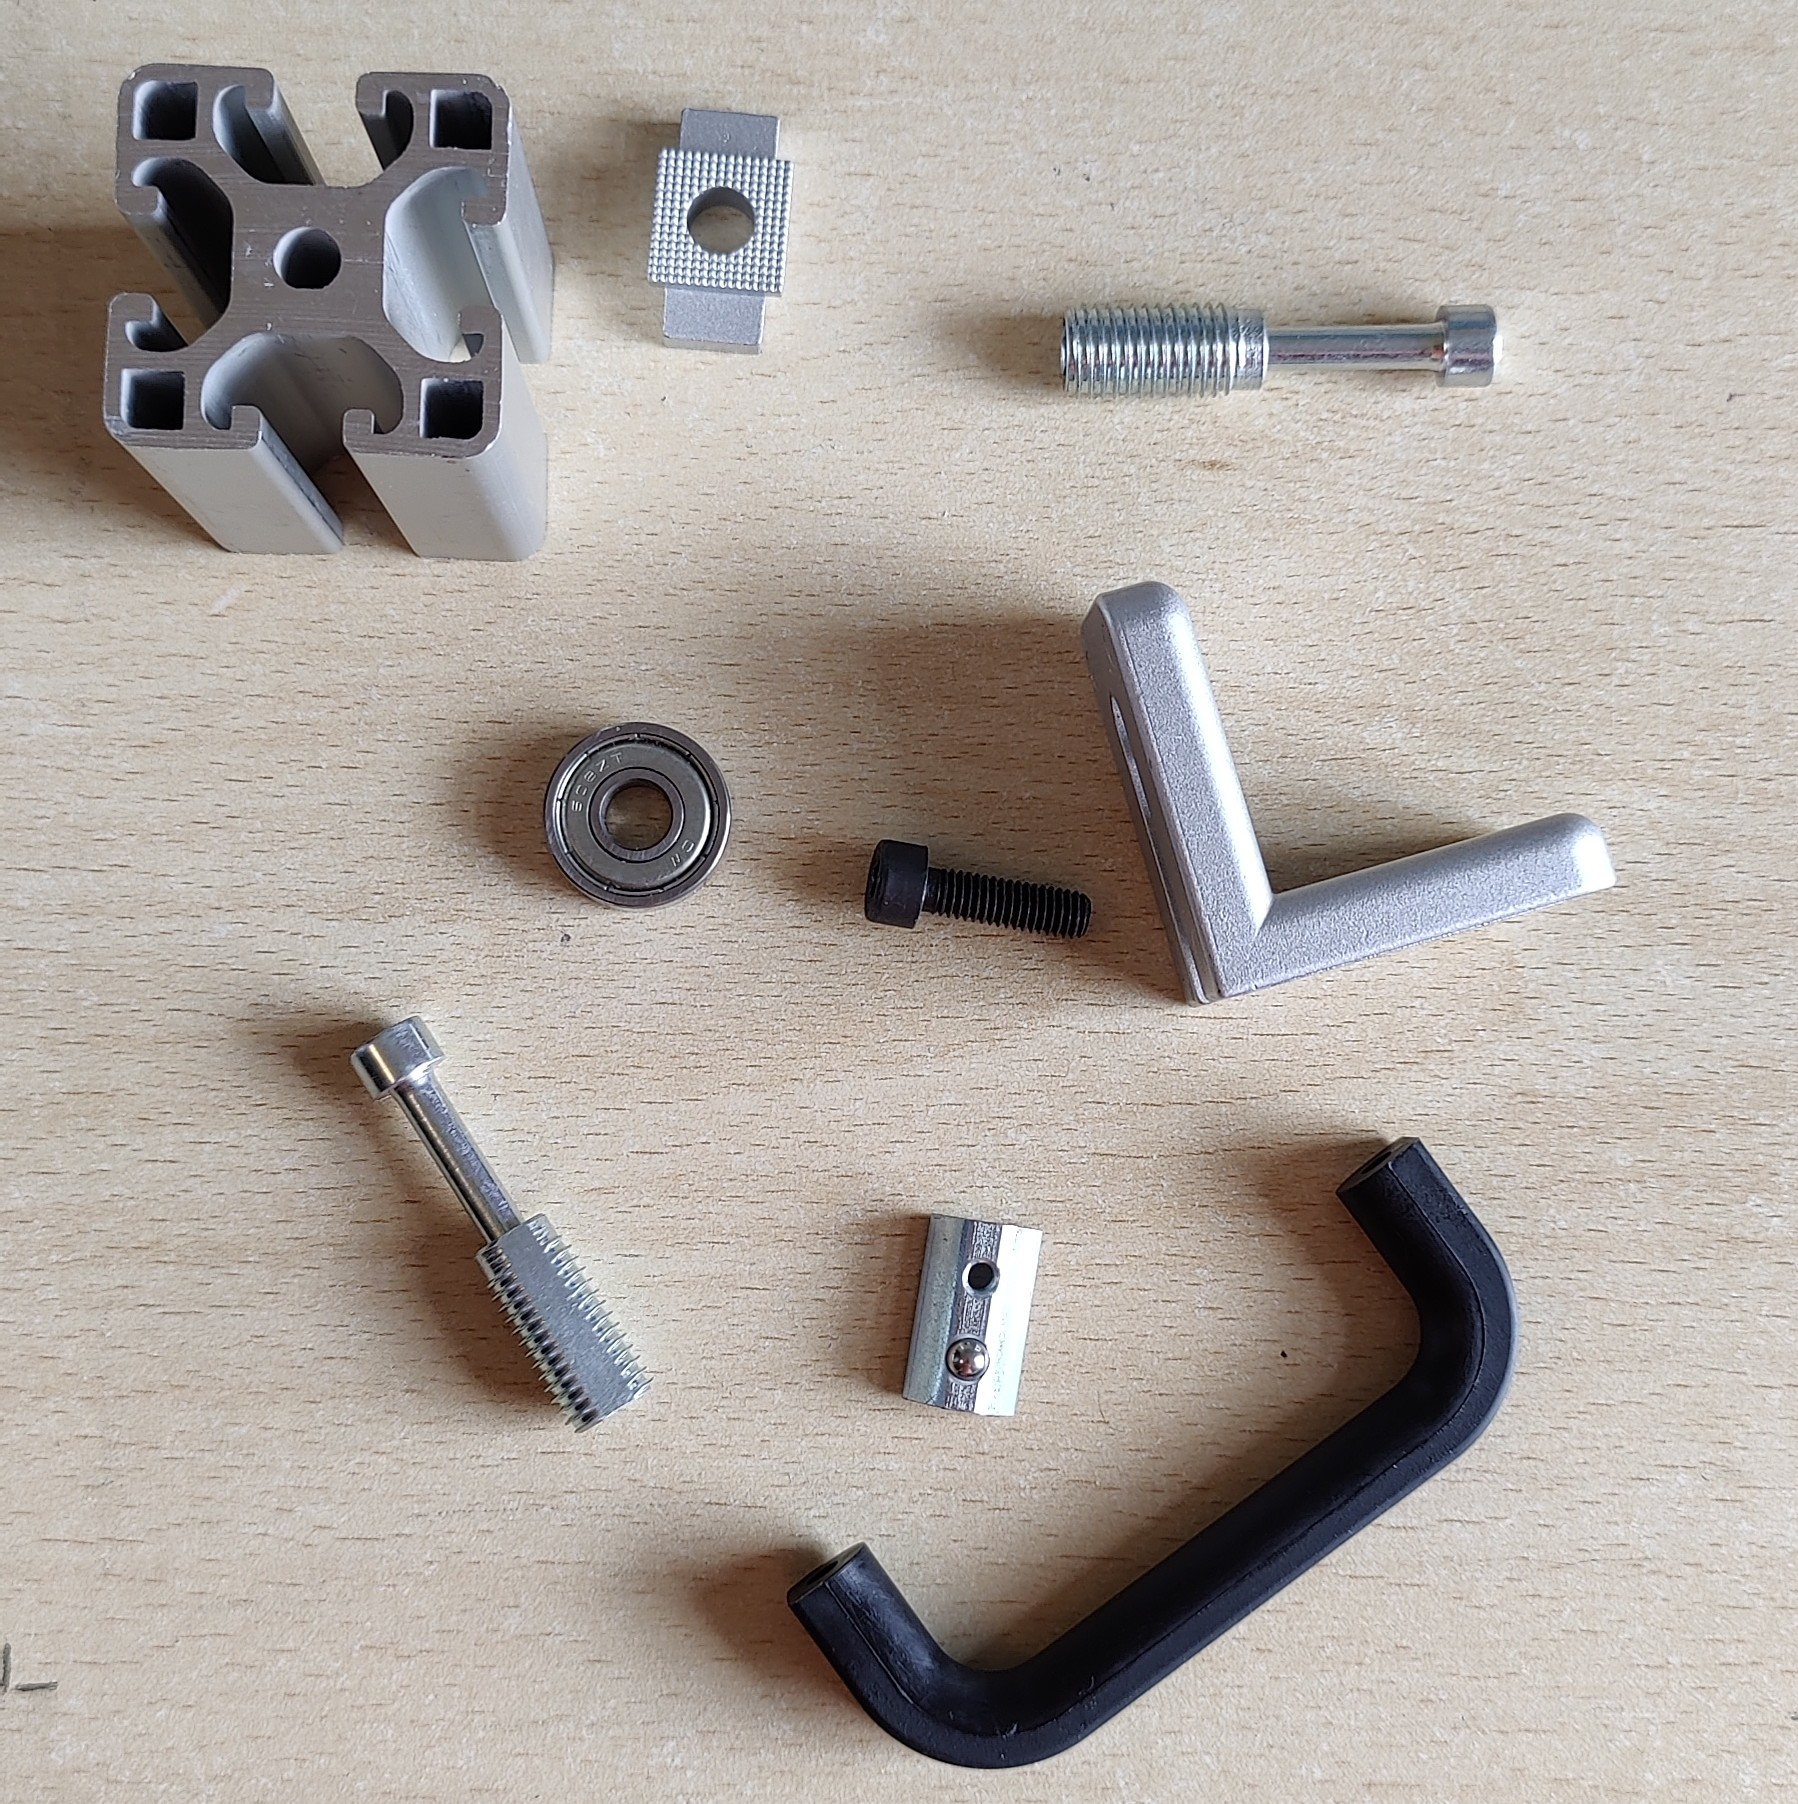Aluminium Extension: (99, 59, 557, 566)
Ball Bearing: (540, 719, 734, 914)
Multiwinkel: (1077, 578, 1619, 1014)
Pull Handle: (782, 1136, 1521, 1771)
Shoulder Socket Head Cap Screw: (347, 1014, 655, 1437), (1055, 300, 1502, 405)
Socket Head Cap Screw: (861, 836, 1095, 946)
T Nut Square: (647, 104, 795, 357)
T Spring Nut: (897, 1215, 1047, 1420)
